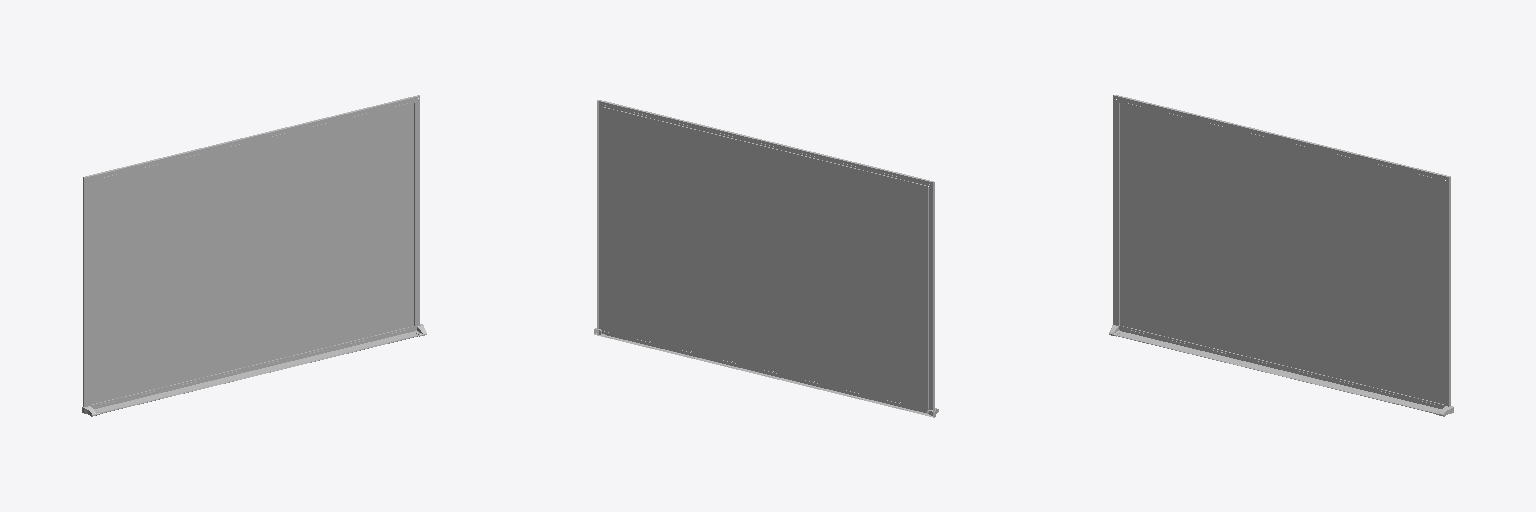
The model's file is whiteboard.obj.
3 renders of one model, left to right at view 1: azimuth 30°, elevation 25°; view 2: azimuth 150°, elevation 25°; view 3: azimuth 330°, elevation 25°, orthographic.
Parts seen in each view (by area): view 1: Whiteboard_Plane; view 2: Whiteboard_Plane; view 3: Whiteboard_Plane.
Part boxes in pixels (x1,y1,x2,y2): Whiteboard_Plane: (82,95,426,416); Whiteboard_Plane: (594,100,938,417); Whiteboard_Plane: (1109,95,1453,416).
Bounding box in the file's own units: 36.59 × 24.14 × 1.45.